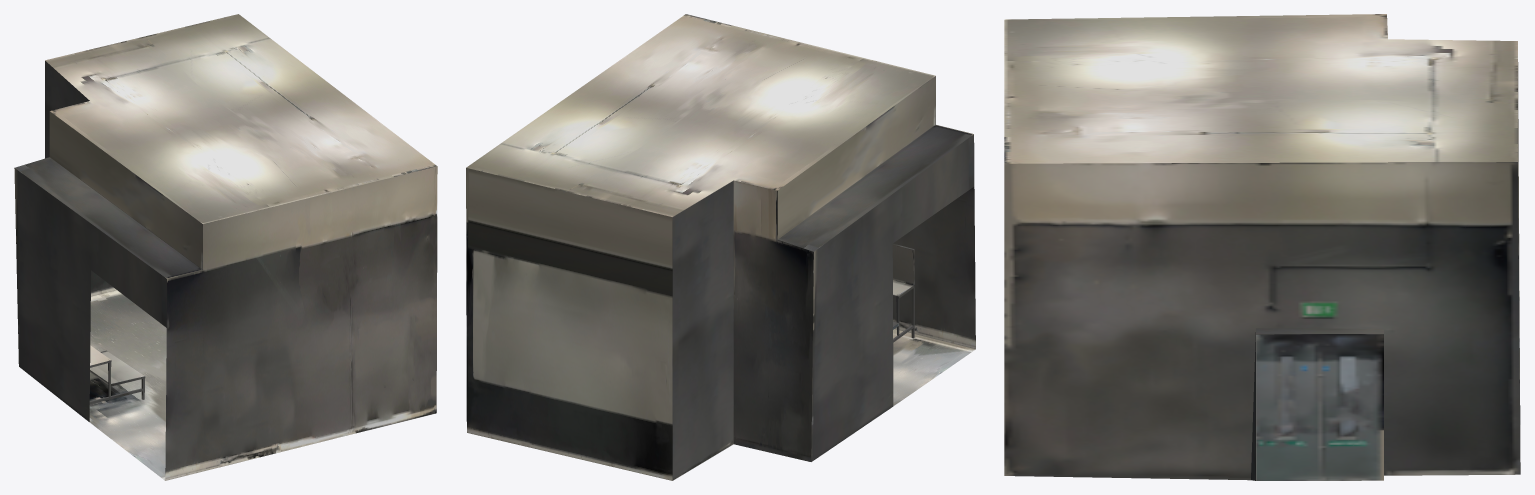
File: main-rightLP.fbx
The picture shows the model from 3 angles, left to right: view 1: azimuth 30°, elevation 25°; view 2: azimuth 150°, elevation 25°; view 3: azimuth 270°, elevation 25°; orthographic projection. The views are drawn at different scales.
Parts seen in each view (by area): view 1: main-rightLP; view 2: main-rightLP; view 3: main-rightLP.
Boxes of the visible parts, bbox=[...] form: main-rightLP: bbox=[14, 14, 437, 480]; main-rightLP: bbox=[466, 14, 975, 480]; main-rightLP: bbox=[1004, 14, 1520, 480].
Size of the model in its own units: 538 by 457 by 669.
